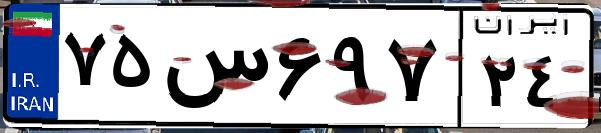2: (475, 38, 525, 113)
4: (525, 38, 570, 115)
5: (110, 28, 158, 98)
6: (270, 28, 330, 110)
7: (385, 28, 445, 110), (57, 26, 110, 100)
9: (330, 28, 385, 110)
س: (158, 20, 270, 120)
